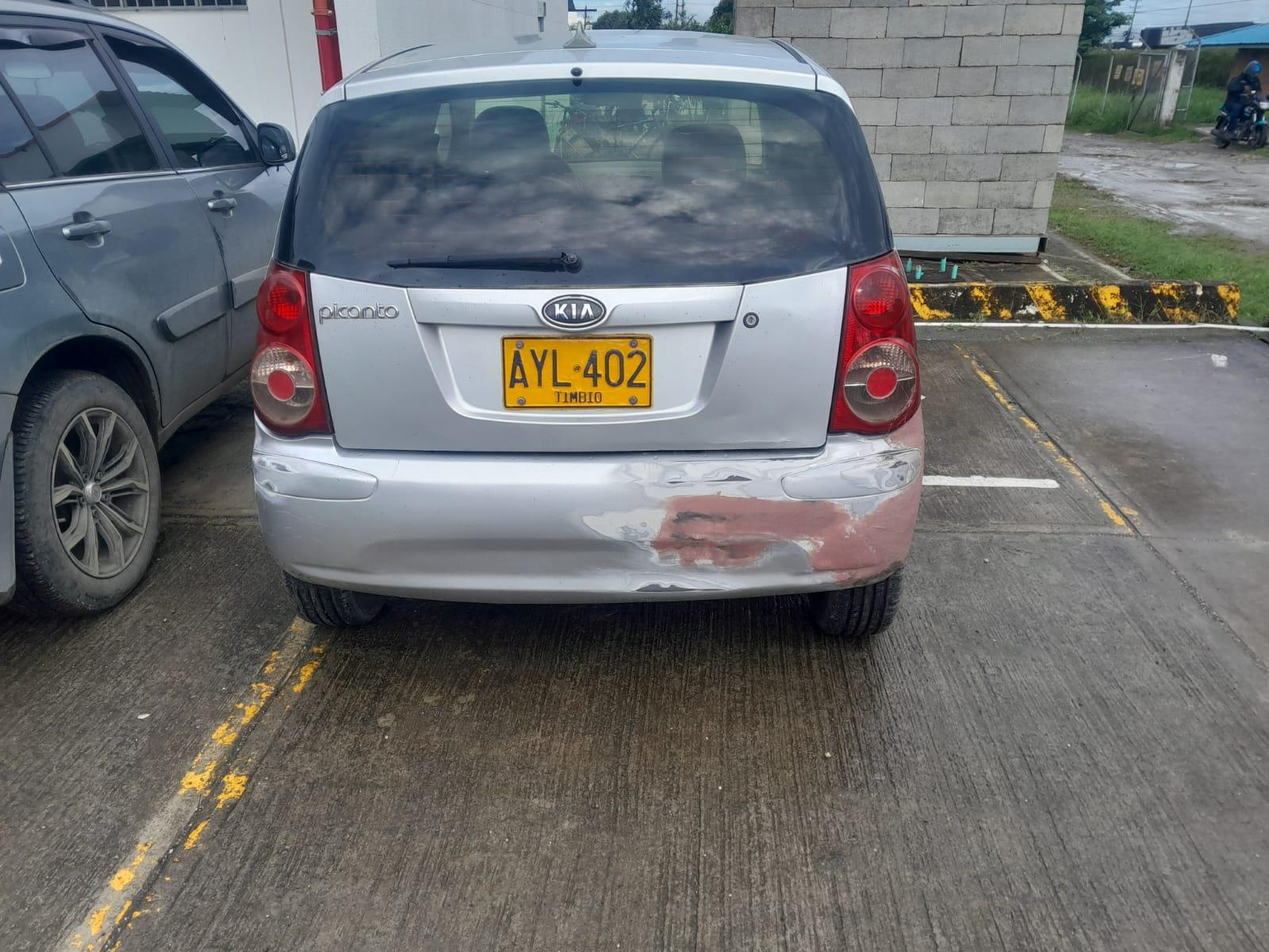placa: (502, 335, 652, 409)
